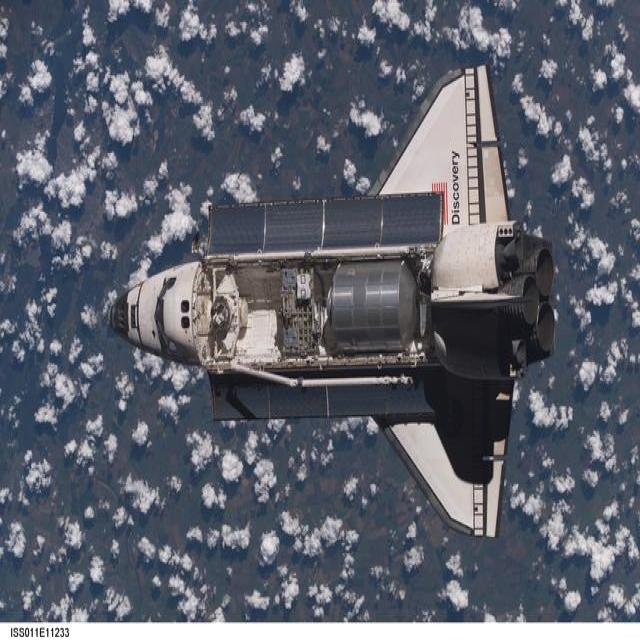medium_debris: (110, 64, 554, 536)
